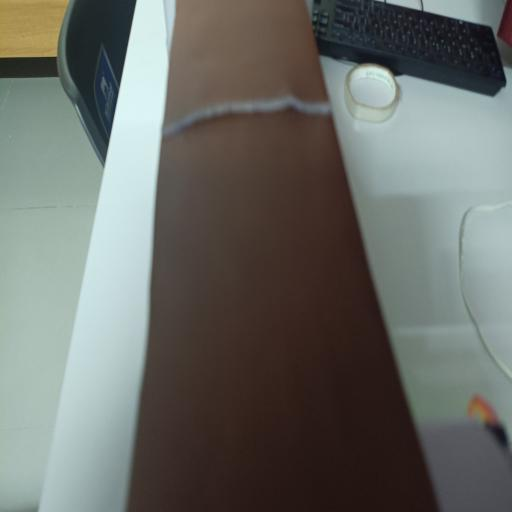joint_damage: (166, 67, 387, 208), (168, 63, 357, 163)
